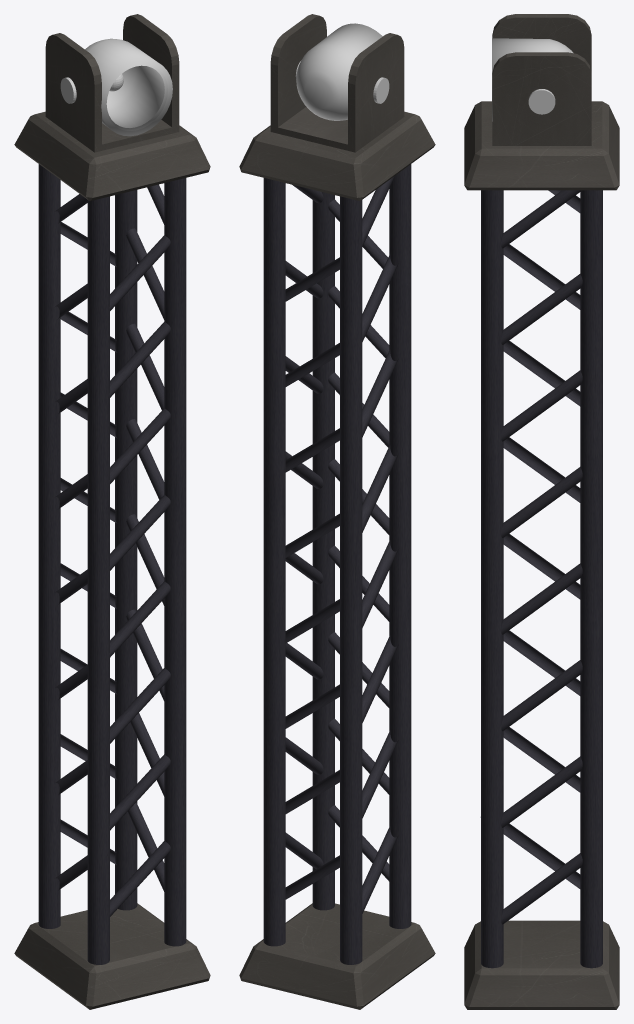
File: light.fbx
3 renders of one model, left to right at view 1: azimuth 30°, elevation 25°; view 2: azimuth 150°, elevation 25°; view 3: azimuth 270°, elevation 25°, orthographic.
Parts seen in each view (by area): view 1: Cylinder, Cube, Cylinder.002, Cylinder.001, Cube.001, Cube.002, Sphere; view 2: Cylinder, Cube, Cylinder.001, Cube.002, Cylinder.002, Cube.001, Sphere; view 3: Cylinder, Cylinder.001, Cube, Cube.002, Cube.001, Sphere, Cylinder.003.
Part boxes in pixels (x1=…): Cylinder: x1=38, y1=164, x2=186, y2=964; Cube: x1=14, y1=903, x2=210, y2=1009; Cylinder.002: x1=60, y1=222, x2=170, y2=916; Cylinder.001: x1=55, y1=184, x2=164, y2=891; Cube.001: x1=14, y1=111, x2=210, y2=200; Cube.002: x1=45, y1=14, x2=179, y2=152; Sphere: x1=85, y1=38, x2=172, y2=136; Cylinder: x1=263, y1=164, x2=411, y2=964; Cube: x1=239, y1=903, x2=435, y2=1009; Cylinder.001: x1=285, y1=176, x2=398, y2=913; Cube.002: x1=270, y1=14, x2=404, y2=152; Cylinder.002: x1=285, y1=199, x2=389, y2=899; Cube.001: x1=239, y1=111, x2=435, y2=200; Sphere: x1=296, y1=23, x2=382, y2=120; Cylinder: x1=481, y1=190, x2=602, y2=968; Cylinder.001: x1=480, y1=190, x2=582, y2=924; Cube: x1=464, y1=920, x2=619, y2=1009; Cube.002: x1=492, y1=14, x2=591, y2=145; Cube.001: x1=464, y1=101, x2=619, y2=190; Sphere: x1=492, y1=38, x2=573, y2=121; Cylinder.003: x1=528, y1=89, x2=555, y2=114.
Size of the model in its own units: 2.94 by 21 by 3.13.
Materials: 4 (2 with a texture image).
